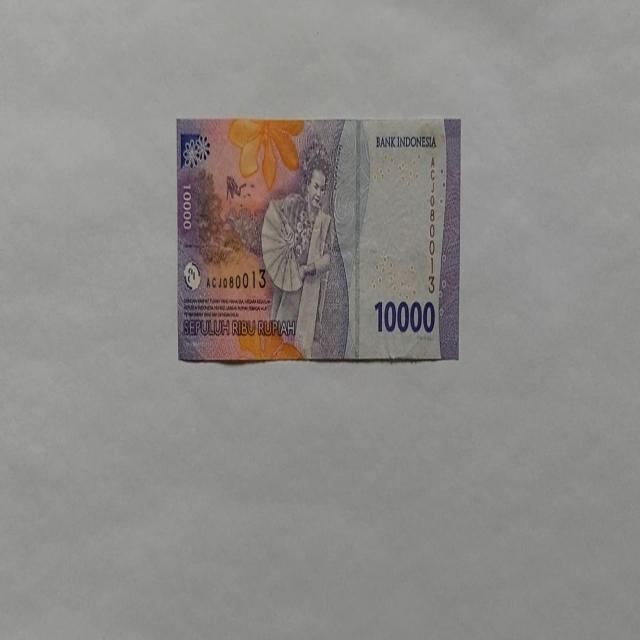Kertas: (176, 116, 460, 364), (374, 297, 436, 335)
